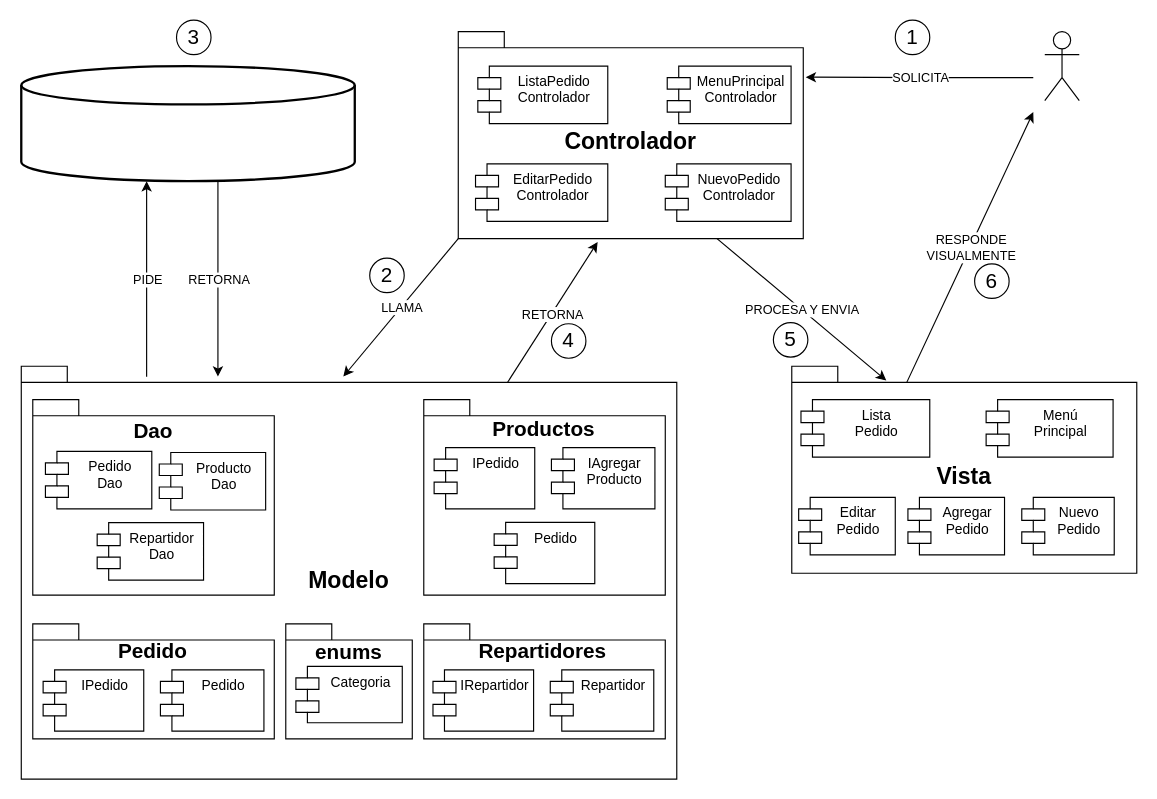
This 1157x799 diagram has some shape labels left out. Each missing label, with the centre of its shape:
Base de Datos: (x=187, y=123)
Usuario: (x=1061, y=65)
